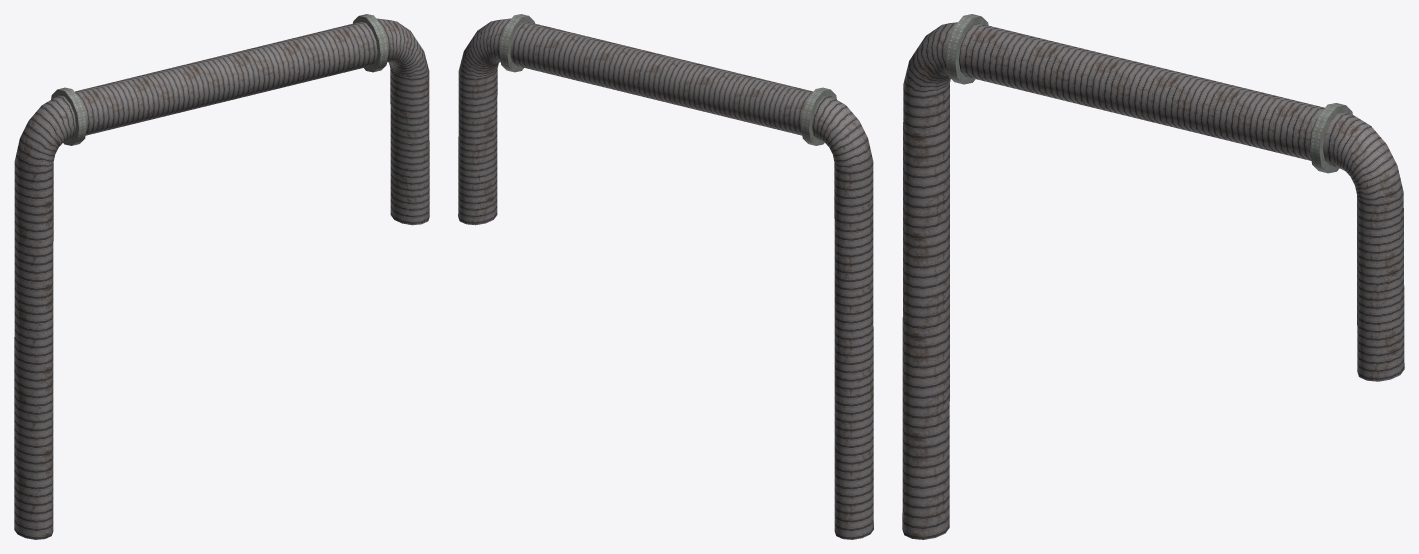
File: Ob_PipesUTurn_RC.fbx
3 renders of one model, left to right at view 1: azimuth 30°, elevation 25°; view 2: azimuth 150°, elevation 25°; view 3: azimuth 330°, elevation 25°, orthographic. The views are drawn at different scales.
Visible parts, largest first — view 1: Ob_PipesUTurn_RC; view 2: Ob_PipesUTurn_RC; view 3: Ob_PipesUTurn_RC.
Part boxes in pixels (x1,y1,x2,y2): Ob_PipesUTurn_RC: (14,14,429,539); Ob_PipesUTurn_RC: (458,14,873,539); Ob_PipesUTurn_RC: (902,14,1404,539).
Bounding box in the file's own units: 1699 × 1717 × 210.
